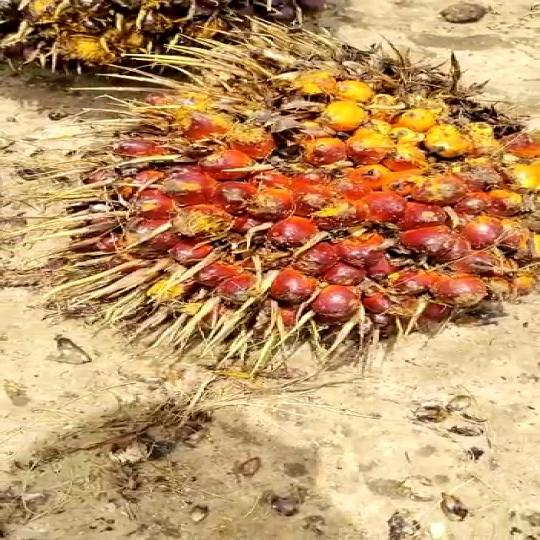masak: (59, 48, 540, 346)
